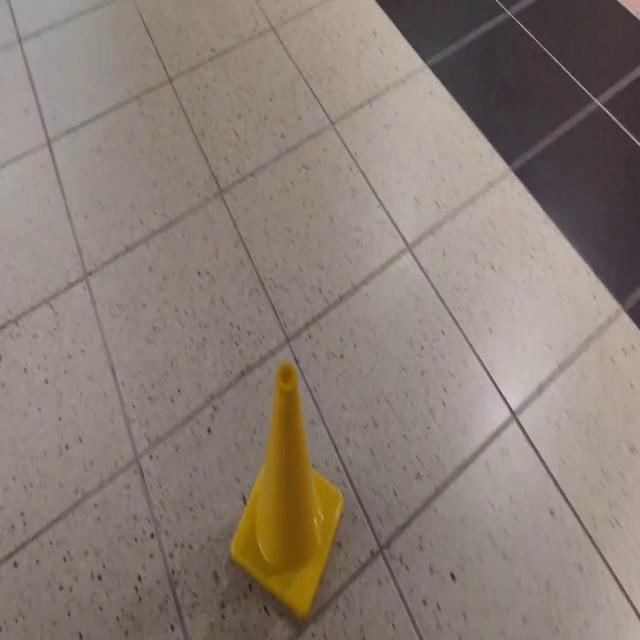frc_cone: (228, 352, 344, 619)
